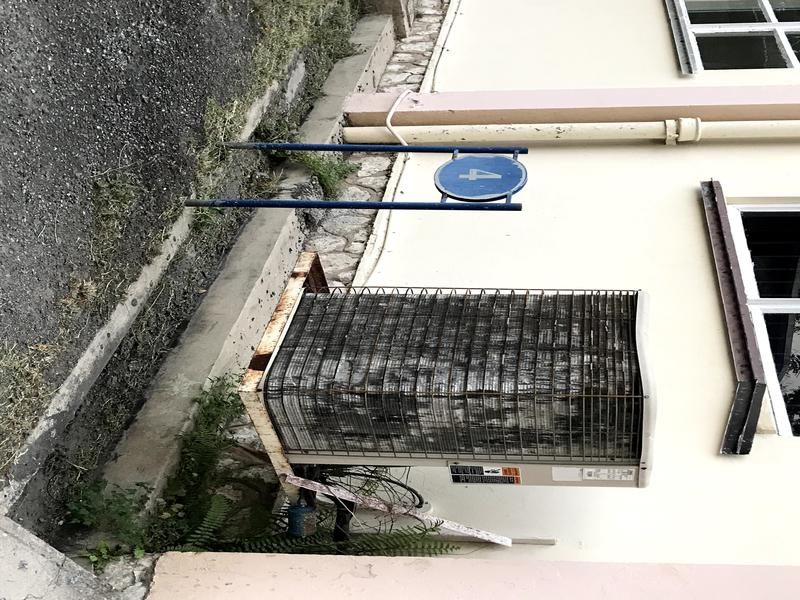18.0053530_-76.7490375_signatentrancetoscitech: (180, 125, 555, 249)
